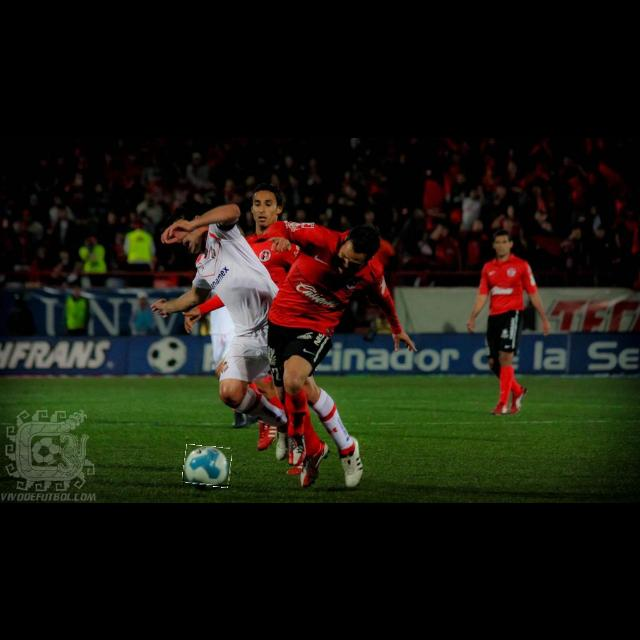Football: (183, 446, 231, 486)
